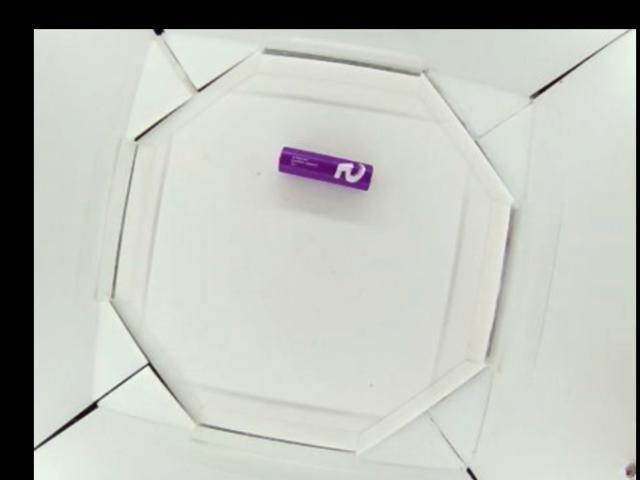Battery: (277, 146, 372, 190)
